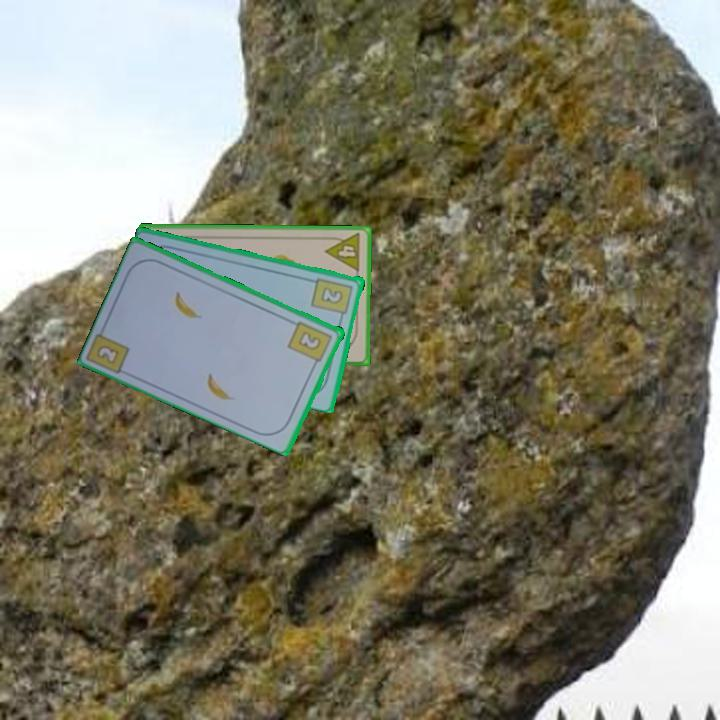2b: (285, 318, 335, 369), (308, 274, 356, 323), (95, 343, 120, 365)
4p: (322, 230, 364, 274)
